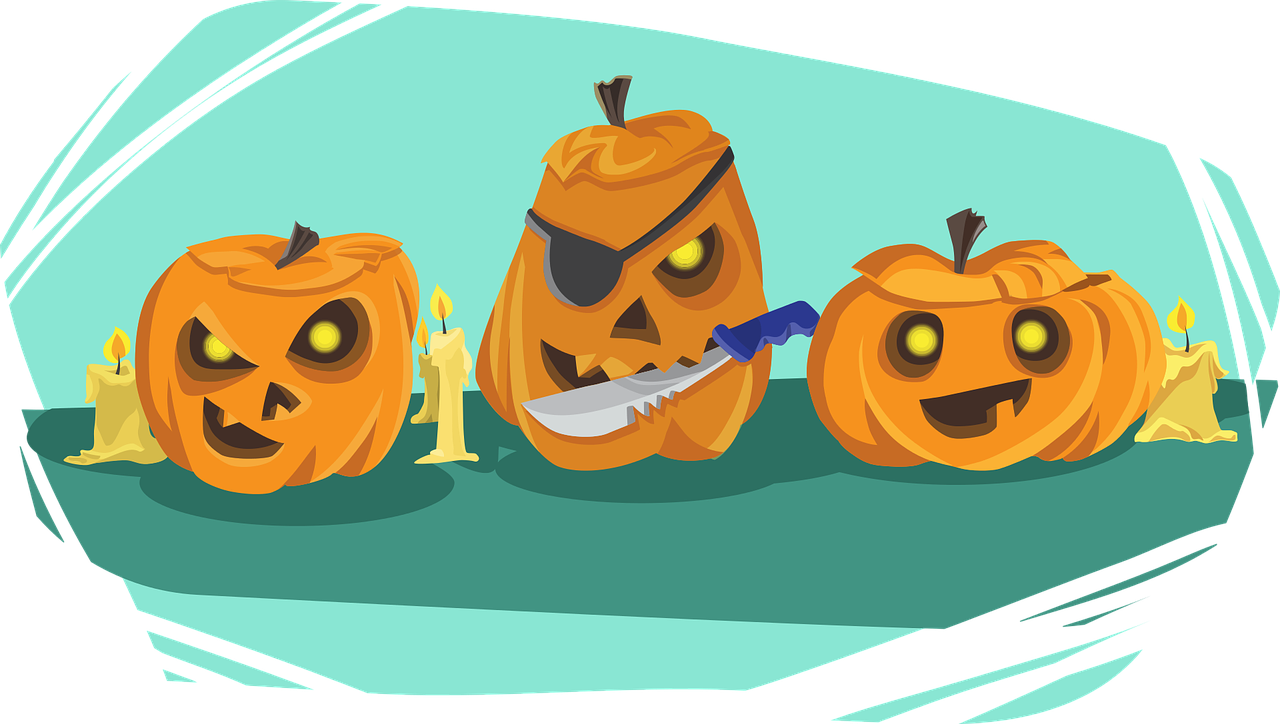knife: (515, 291, 822, 443)
